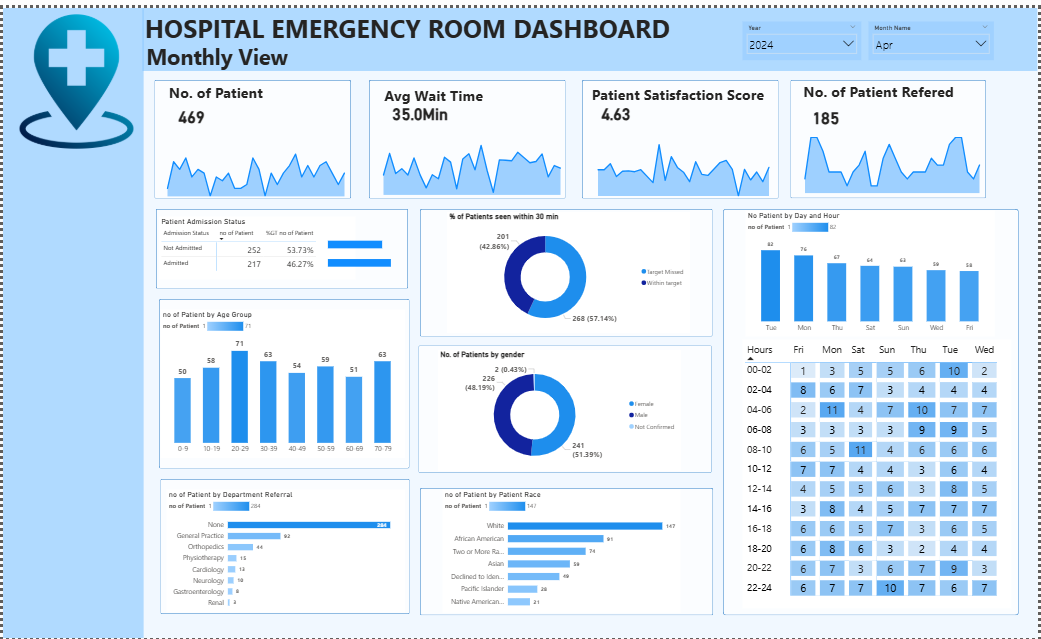

The page's visual inventory and layout, read from the dashboard file:
{"tool":"powerbi","page":{"name":"Monthly View","canvas":[2300,1400],"ordinal":0},"visuals":[{"type":"shape","box":[346.7,646.7,556.7,376.7],"z":0},{"type":"shape","box":[350,1046.4,553.6,300],"z":1000},{"type":"shape","box":[0,0,312.5,1400],"z":2000},{"type":"shape","box":[309.5,0,1988.4,140],"z":3000},{"type":"textbox","box":[309.5,0,1185.1,105.3],"z":4000},{"type":"textbox","box":[313.3,70,336.7,90],"z":5000},{"type":"slicer","fields":{"Values":["Date Tabel.Year"]},"box":[1642.9,28.6,264.3,85.7],"z":6000},{"type":"slicer","fields":{"Values":["Date Tabel.Month Name"]},"box":[1925,28.6,278.6,85.7],"z":7000},{"type":"shape","box":[336.7,160,436.7,263.3],"z":8000},{"type":"card","fields":{"Values":["Hospital ER_Data.no of Patient"]},"box":[343.3,196.7,150,86.7],"z":9000},{"type":"textbox","box":[363.3,160,260,53.3],"z":10000},{"type":"areaChart","fields":{"Category":["Date Tabel.Date.Variation.Date Hierarchy.Day"],"Y":["Hospital ER_Data.no of Patient"]},"box":[336.7,276.7,436.7,146.7],"z":11000},{"type":"shape","box":[813.3,160,436.7,263.3],"z":12000},{"type":"card","fields":{"Values":["Hospital ER_Data.Avg wit time"]},"box":[833.3,186.7,186.7,90],"z":13000},{"type":"textbox","box":[833.3,166.7,286.7,56.7],"z":14000},{"type":"areaChart","fields":{"Category":["Date Tabel.Date.Variation.Date Hierarchy.Day"],"Y":["Avg(Hospital ER_Data.Patient Waittime)"]},"box":[816.7,273.3,436.7,146.7],"z":15000},{"type":"shape","box":[1286.7,160,436.7,263.3],"z":16000},{"type":"card","fields":{"Values":["Hospital ER_Data.Avg Patient Satisfy"]},"box":[1286.7,190,150,83.3],"z":17000},{"type":"textbox","box":[1303.3,163.3,420,60],"z":18000},{"type":"areaChart","fields":{"Category":["Date Tabel.Date.Variation.Date Hierarchy.Day"],"Y":["Avg(Hospital ER_Data.Patient Satisfaction Score)"]},"box":[1280,276.7,436.7,146.7],"z":19000},{"type":"shape","box":[1751.4,160,434.3,262.9],"z":20000},{"type":"card","fields":{"Values":["Hospital ER_Data.Notient Refered"]},"box":[1753.3,198.6,150,83.3],"z":21000},{"type":"textbox","box":[1773.3,155.2,423.3,56.7],"z":22000},{"type":"areaChart","fields":{"Category":["Date Tabel.Date.Variation.Date Hierarchy.Day"],"Y":["Hospital ER_Data.No of Patient Refered"]},"box":[1754.3,274.3,431.4,142.9],"z":23000},{"type":"shape","box":[341.1,447.8,560,176.7],"z":24000},{"type":"clusteredColumnChart","fields":{"Category":["Hospital ER_Data.Age Group"],"Y":["Hospital ER_Data.no of Patient"]},"box":[350,670,543.3,330],"z":25000},{"type":"pivotTable","title":"Patient Admission Status","fields":{"Rows":["Hospital ER_Data.Admission Status"],"Values":["Hospital ER_Data.no of Patient1","Hospital ER_Data.no of Patient"]},"box":[347.8,464.4,436.7,140],"z":26000},{"type":"barChart","fields":{"Category":["Hospital ER_Data.Admission Status"],"Y":["Hospital ER_Data.no of Patient"]},"box":[716.7,483.3,176.7,120],"z":27000},{"type":"clusteredBarChart","fields":{"Y":["Hospital ER_Data.no of Patient"],"Category":["Hospital ER_Data.Department Referral"]},"box":[363.3,1070,530,273.3],"z":28000},{"type":"shape","box":[926.7,446.7,650,283.3],"z":29000},{"type":"donutChart","title":"% of Patients seen within 30 min","fields":{"Category":["Hospital ER_Data.Wait time"],"Y":["Hospital ER_Data.no of Patient"]},"box":[985.7,454.3,540,268.6],"z":30000},{"type":"shape","box":[922.9,751.4,651.4,282.9],"z":31000},{"type":"donutChart","title":"No. of Patients  by gender","fields":{"Y":["Hospital ER_Data.no of Patient"],"Category":["Hospital ER_Data.Patient Gender"]},"box":[965.7,760,540,268.6],"z":32000},{"type":"shape","box":[925.7,1065.7,651.4,282.9],"z":33000},{"type":"clusteredBarChart","fields":{"Y":["Hospital ER_Data.no of Patient"],"Category":["Hospital ER_Data.Patient Race"]},"box":[977.1,1068.6,528.6,274.3],"z":34000},{"type":"shape","box":[1600,445.7,657.1,902.9],"z":35000},{"type":"pivotTable","fields":{"Rows":["Hospital ER_Data.Waittime Interval"],"Columns":["Date Tabel.Day Name"],"Values":["Hospital ER_Data.no of Patient"]},"box":[1642.9,737.1,597.1,597.1],"z":36000},{"type":"columnChart","title":"No Patient by Day and Hour","fields":{"Category":["Date Tabel.Day Name"],"Y":["Hospital ER_Data.no of Patient"]},"box":[1648.6,451.4,554.3,280],"z":37000},{"type":"image","box":[12.5,12.5,300,300],"z":38000}]}

Visuals, with their boxes in screenshot pixels (x1, y1, x2, y2), scaled from the page's 2300x1400 canvas onto the 1041x639 screenshot:
shape: <box>157,295,409,467</box>
shape: <box>158,478,409,615</box>
shape: <box>0,0,141,638</box>
shape: <box>140,0,1040,64</box>
textbox: <box>140,0,676,48</box>
textbox: <box>142,32,294,73</box>
slicer - Date Tabel.Year: <box>744,13,863,52</box>
slicer - Date Tabel.Month Name: <box>871,13,997,52</box>
shape: <box>152,73,350,193</box>
card - Hospital ER_Data.no of Patient: <box>155,90,223,129</box>
textbox: <box>164,73,282,97</box>
areaChart - Date Tabel.Date.Variation.Date Hierarchy.Day x Hospital ER_Data.no of Patient: <box>152,126,350,193</box>
shape: <box>368,73,566,193</box>
card - Hospital ER_Data.Avg wit time: <box>377,85,462,126</box>
textbox: <box>377,76,507,102</box>
areaChart - Date Tabel.Date.Variation.Date Hierarchy.Day x Avg(Hospital ER_Data.Patient Waittime): <box>370,125,567,192</box>
shape: <box>582,73,780,193</box>
card - Hospital ER_Data.Avg Patient Satisfy: <box>582,87,650,125</box>
textbox: <box>590,75,780,102</box>
areaChart - Date Tabel.Date.Variation.Date Hierarchy.Day x Avg(Hospital ER_Data.Patient Satisfaction Score): <box>579,126,777,193</box>
shape: <box>793,73,989,193</box>
card - Hospital ER_Data.Notient Refered: <box>794,91,861,129</box>
textbox: <box>803,71,994,97</box>
areaChart - Date Tabel.Date.Variation.Date Hierarchy.Day x Hospital ER_Data.No of Patient Refered: <box>794,125,989,190</box>
shape: <box>154,204,408,285</box>
clusteredColumnChart - Hospital ER_Data.Age Group x Hospital ER_Data.no of Patient: <box>158,306,404,456</box>
"Patient Admission Status" pivotTable: <box>157,212,355,276</box>
barChart - Hospital ER_Data.Admission Status x Hospital ER_Data.no of Patient: <box>324,221,404,275</box>
clusteredBarChart - Hospital ER_Data.no of Patient x Hospital ER_Data.Department Referral: <box>164,488,404,613</box>
shape: <box>419,204,714,333</box>
"% of Patients seen within 30 min" donutChart: <box>446,207,691,330</box>
shape: <box>418,343,713,472</box>
"No. of Patients  by gender" donutChart: <box>437,347,681,469</box>
shape: <box>419,486,714,616</box>
clusteredBarChart - Hospital ER_Data.no of Patient x Hospital ER_Data.Patient Race: <box>442,488,681,613</box>
shape: <box>724,203,1022,616</box>
pivotTable - Hospital ER_Data.Waittime Interval x Date Tabel.Day Name: <box>744,336,1014,609</box>
"No Patient by Day and Hour" columnChart: <box>746,206,997,334</box>
image: <box>6,6,141,143</box>
